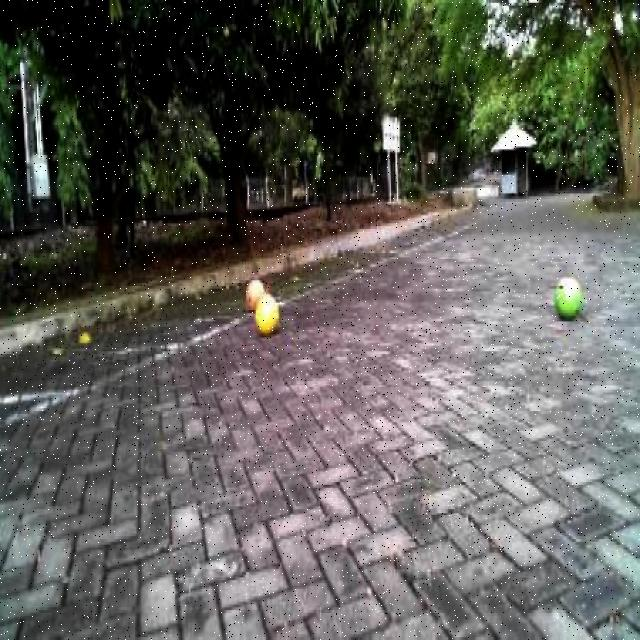buoy: (547, 266, 588, 326), (250, 285, 282, 344), (242, 268, 263, 312)
